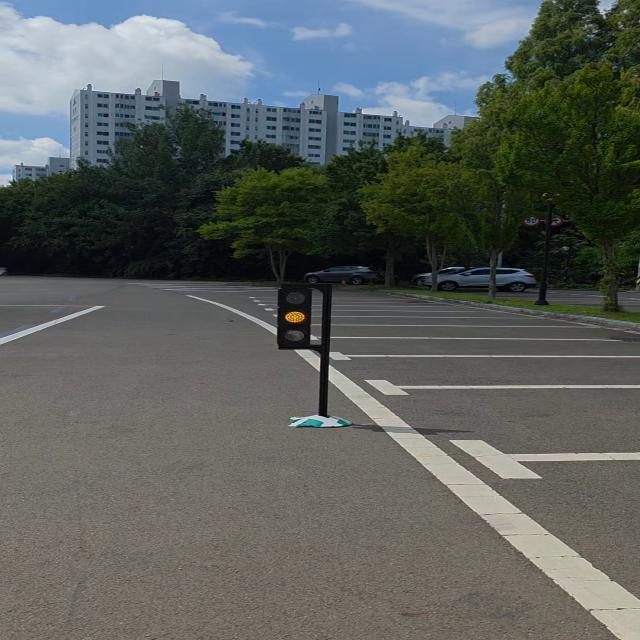yellow: (269, 280, 320, 357)
